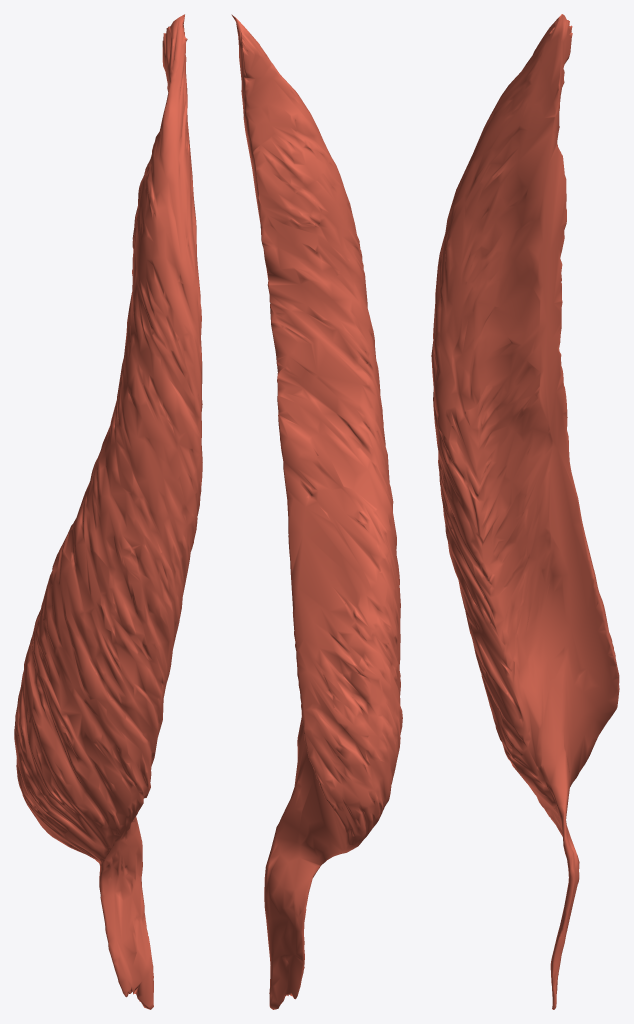
File: vastus-medialis.glb
The picture shows the model from 3 angles, left to right: view 1: azimuth 30°, elevation 25°; view 2: azimuth 150°, elevation 25°; view 3: azimuth 270°, elevation 25°; orthographic projection. The views are drawn at different scales.
Parts seen in each view (by area): view 1: Vastus medialis muscle.l; view 2: Vastus medialis muscle.l; view 3: Vastus medialis muscle.l.
Part boxes in pixels (left/top/right/bottom): Vastus medialis muscle.l: left=14, top=14, right=202, bottom=1009; Vastus medialis muscle.l: left=231, top=14, right=402, bottom=1009; Vastus medialis muscle.l: left=431, top=14, right=619, bottom=1009.
Bounding box in the file's own units: 0.0716 × 0.4079 × 0.0685.
